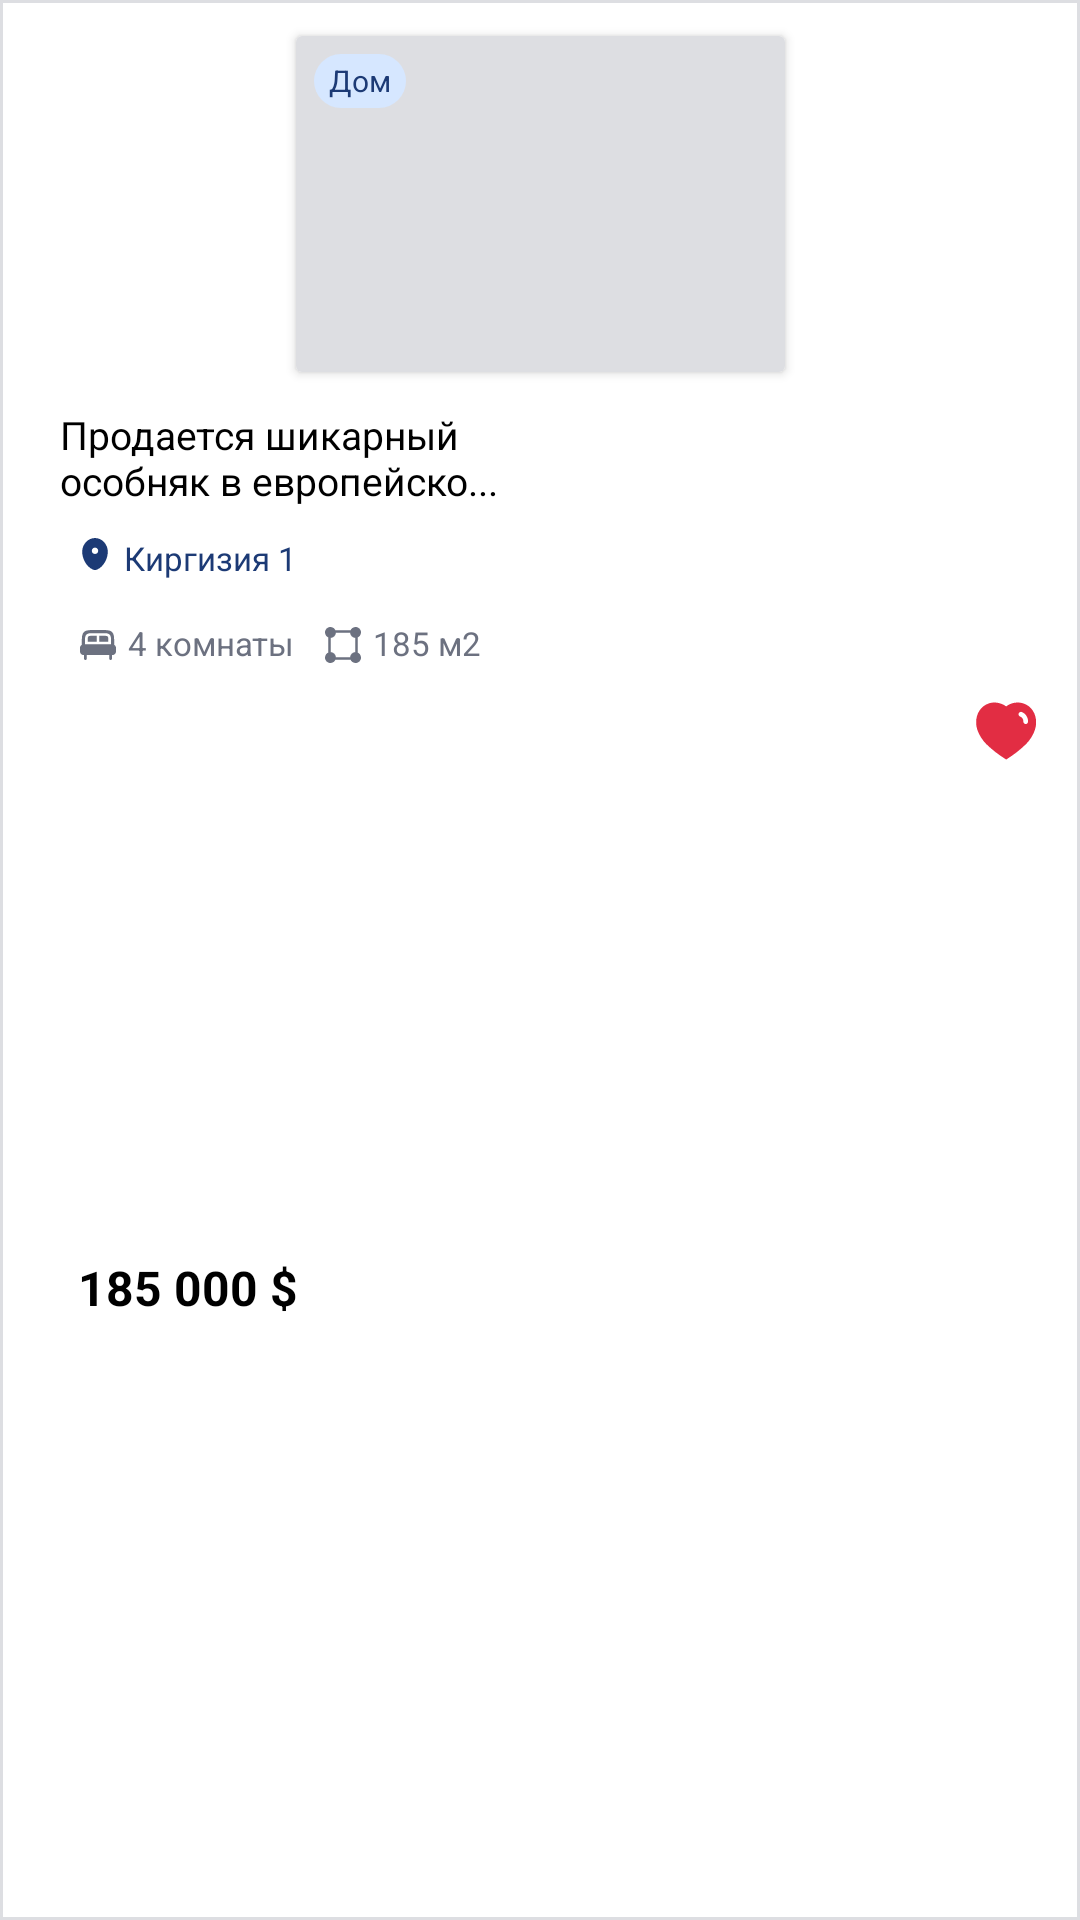

Named icons in this screenshot (1080×1920) and their centers, point (x, y):
heart: point (1006, 731)
location: point (95, 554)
room: point (98, 645)
